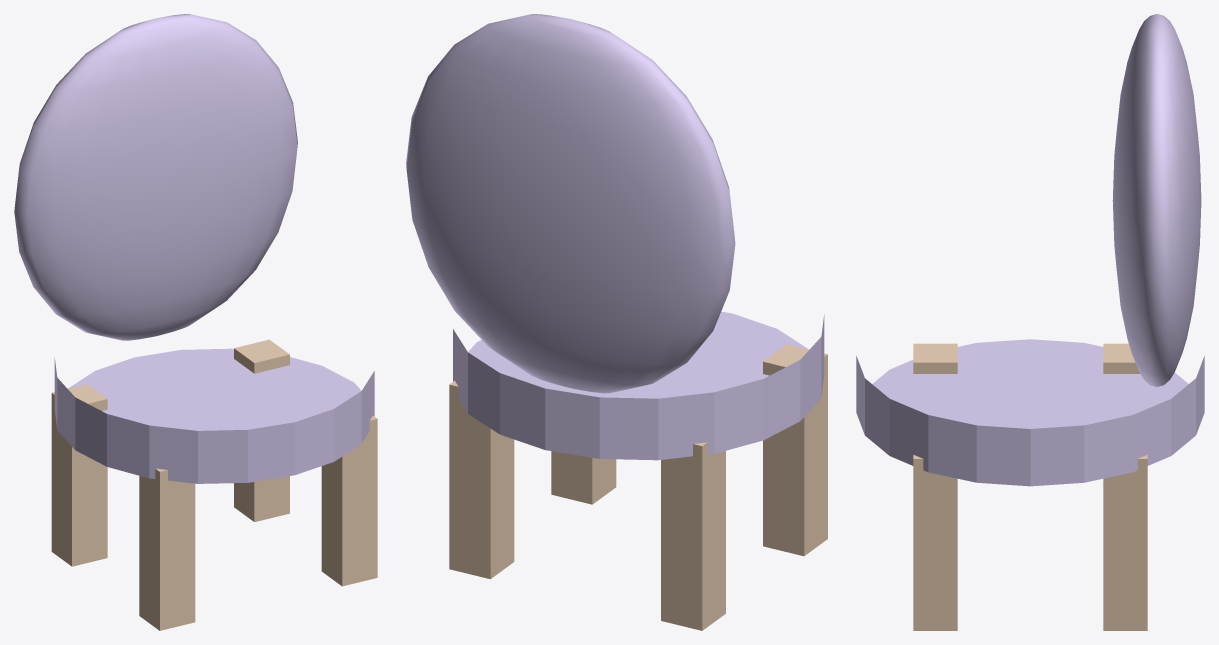
Rendered from chair.glb.
3 views of the same model, side by side, from view 1: azimuth 30°, elevation 25°; view 2: azimuth 150°, elevation 25°; view 3: azimuth 270°, elevation 25° (orthographic). The views are drawn at different scales.
Visible parts, largest first — view 1: back, seat, leg2, leg3, leg0, leg1; view 2: back, seat, leg0, leg1, leg2, leg3; view 3: seat, back, leg1, leg3, leg2, leg0.
Part boxes in pixels (x1=…): back: x1=14, y1=14, x2=297, y2=340; seat: x1=54, y1=348, x2=374, y2=483; leg2: x1=139, y1=468, x2=195, y2=630; leg3: x1=321, y1=411, x2=377, y2=586; leg0: x1=51, y1=384, x2=107, y2=566; leg1: x1=234, y1=339, x2=289, y2=522; back: x1=406, y1=14, x2=735, y2=393; seat: x1=453, y1=311, x2=824, y2=460; leg0: x1=661, y1=442, x2=725, y2=630; leg1: x1=449, y1=375, x2=514, y2=579; leg2: x1=763, y1=344, x2=827, y2=556; leg3: x1=551, y1=451, x2=616, y2=504; seat: x1=856, y1=339, x2=1204, y2=486; back: x1=1112, y1=14, x2=1201, y2=386; leg1: x1=1103, y1=454, x2=1147, y2=630; leg3: x1=913, y1=454, x2=957, y2=630; leg2: x1=913, y1=343, x2=957, y2=373; leg0: x1=1103, y1=343, x2=1140, y2=373.
Size of the model in its own units: 0.56 by 0.95 by 0.55.
